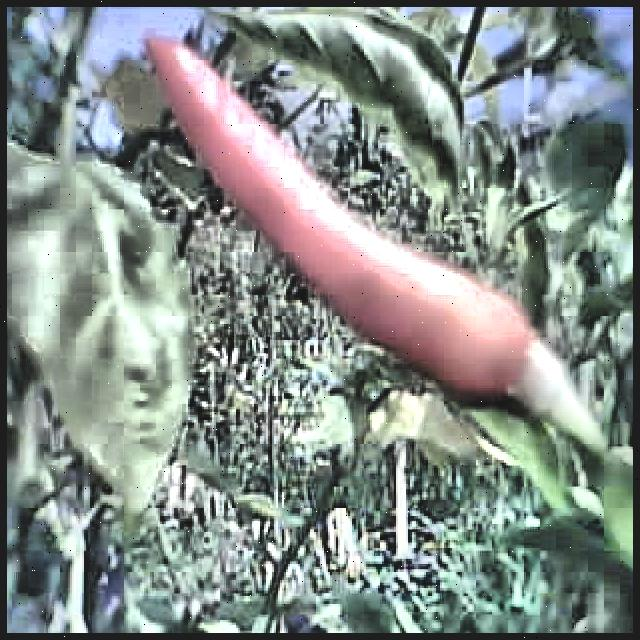Cabai: (144, 31, 563, 401)
